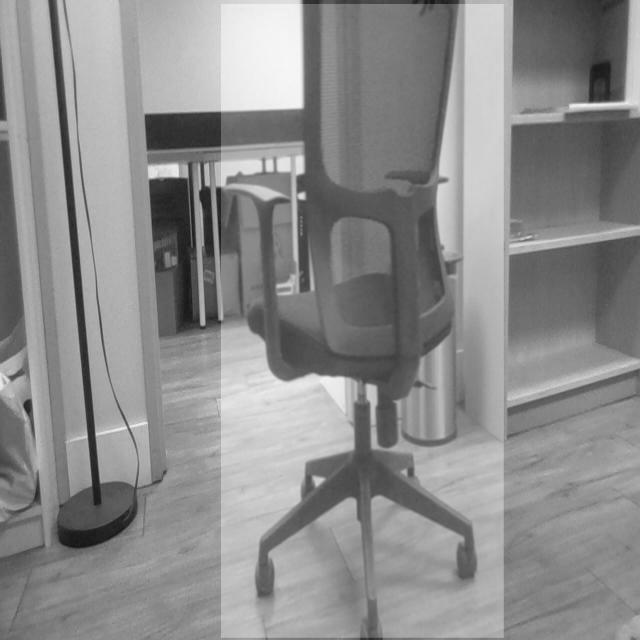chair: (221, 5, 505, 640)
